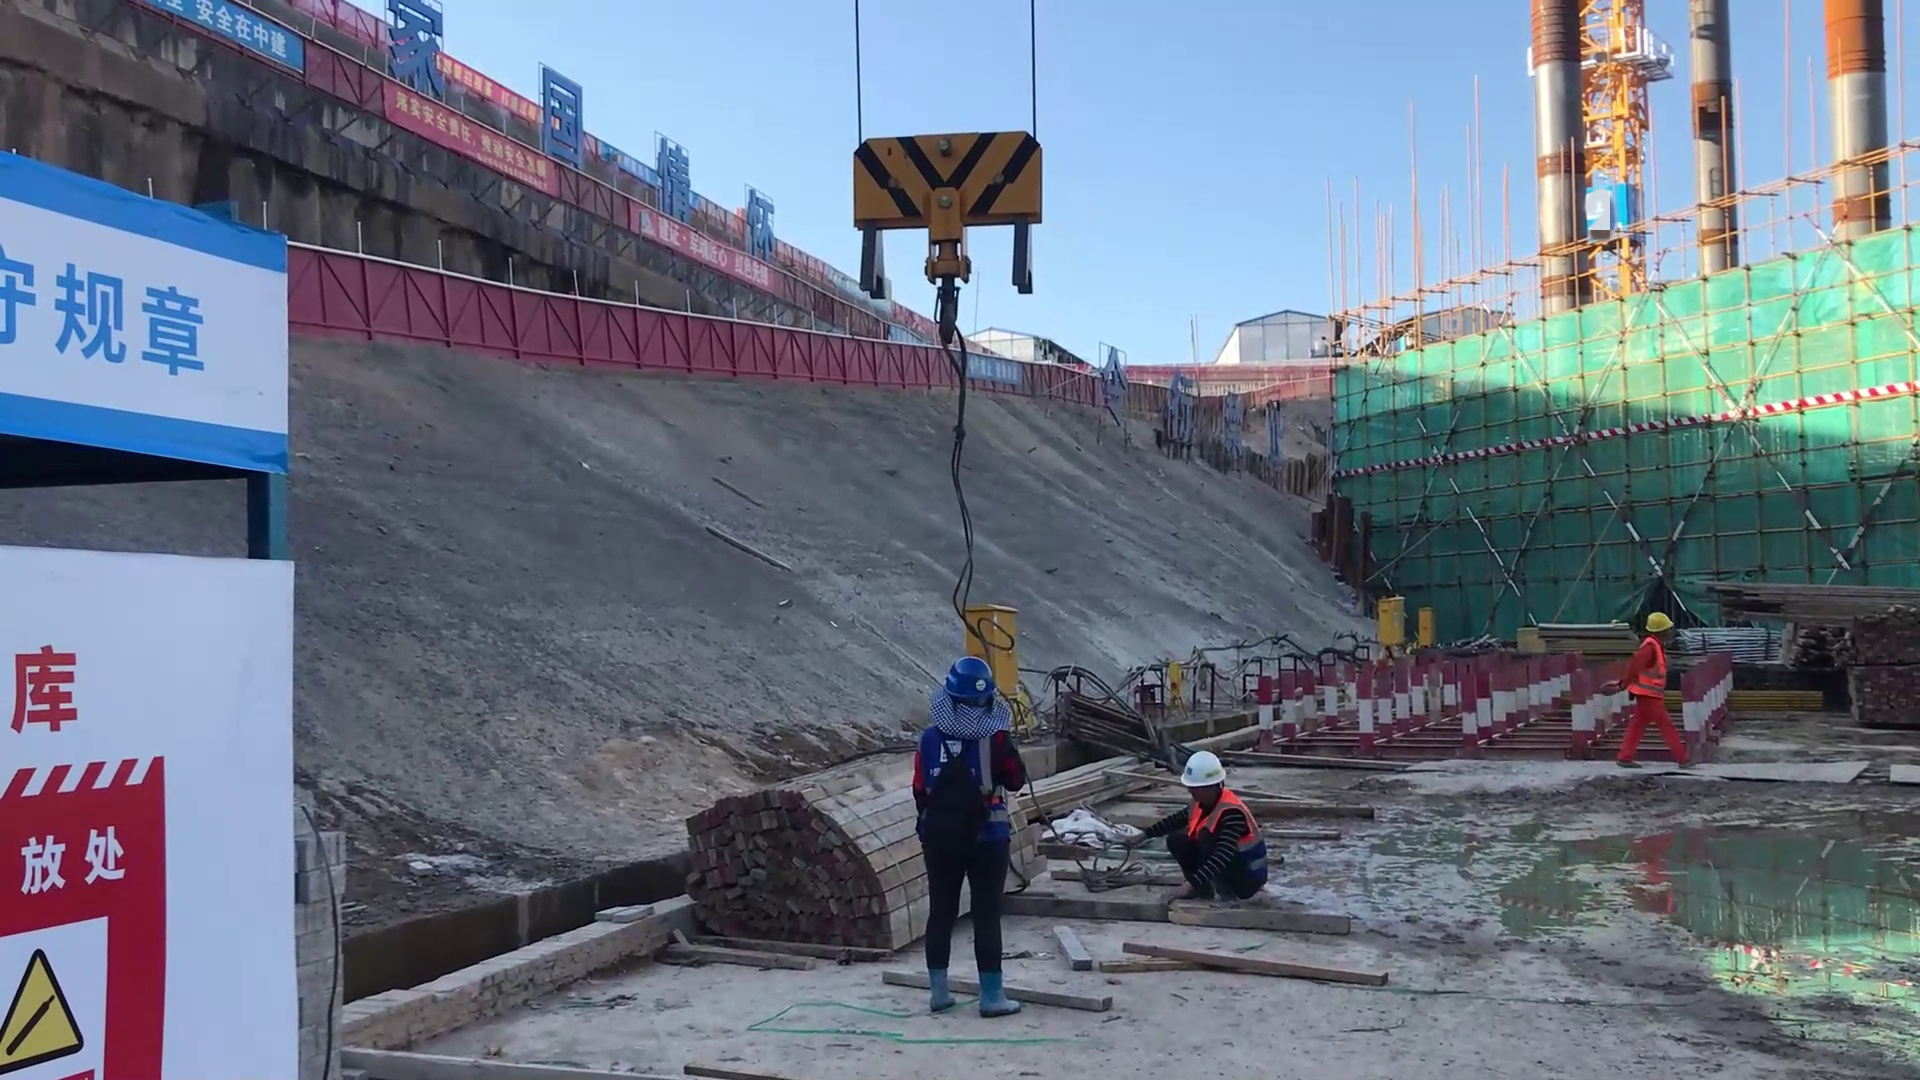ebox: (966, 600, 1034, 692), (1373, 597, 1410, 643), (1412, 606, 1431, 647)
fence: (270, 252, 780, 393), (773, 329, 1118, 402)
helmet: (925, 653, 1007, 732), (1176, 750, 1228, 788), (1637, 608, 1675, 636)
hook: (846, 116, 1055, 281)
person: (903, 648, 1029, 1020), (1113, 745, 1282, 917), (1602, 607, 1699, 773)
slogan: (1, 262, 234, 450), (351, 72, 551, 185), (1, 934, 132, 1070), (180, 1, 307, 67)
vest: (1621, 644, 1669, 709), (1184, 800, 1249, 849)
wood: (1704, 565, 1919, 641)
